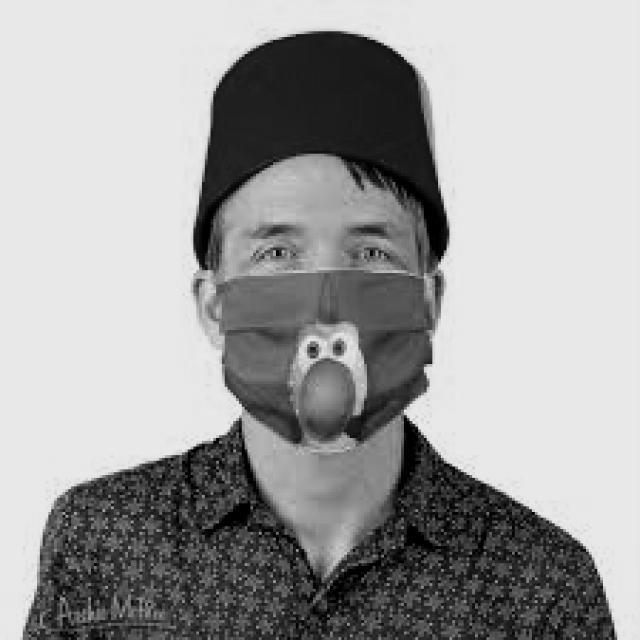fake: (214, 265, 437, 454)
real: (207, 158, 441, 459)
